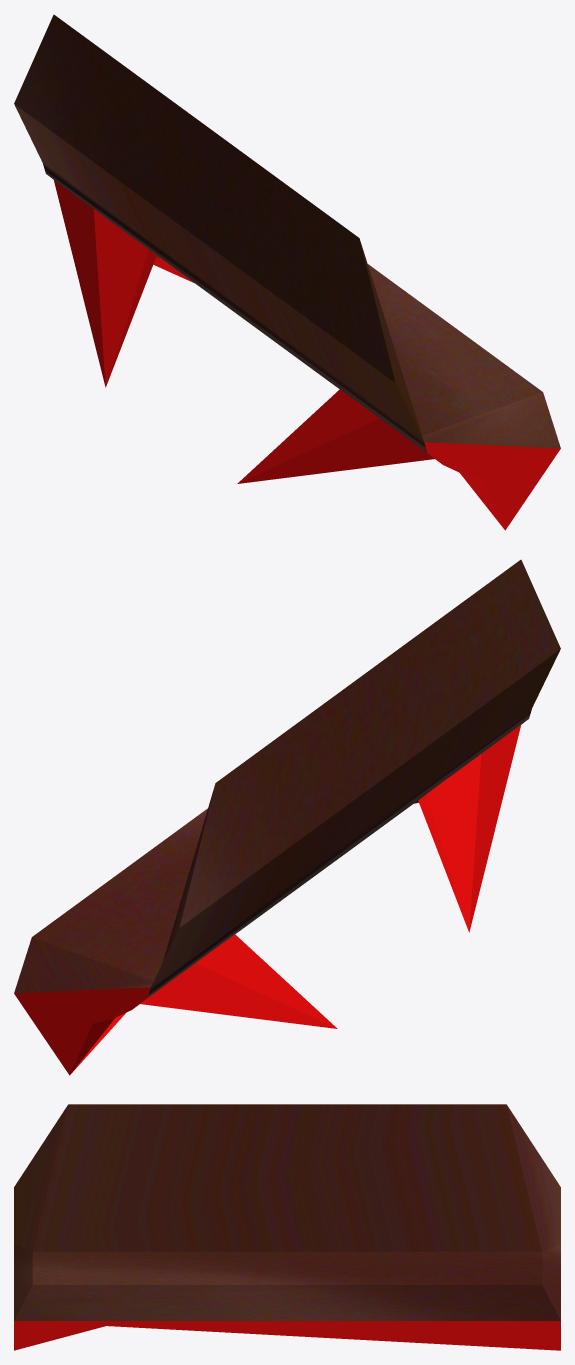
The model's file is BenchSofa.fbx.
3 renders of one model, top to bottom at view 1: azimuth 30°, elevation 25°; view 2: azimuth 150°, elevation 25°; view 3: azimuth 270°, elevation 25°, orthographic. The views are drawn at different scales.
Parts seen in each view (by area): view 1: pCube1; view 2: pCube1; view 3: pCube1.
Boxes of the visible parts, box(x1,y1,x2,y2) form: pCube1: box(14, 14, 560, 530); pCube1: box(14, 559, 560, 1075); pCube1: box(14, 1104, 560, 1350).
Bounding box in the file's own units: 2.2 × 3.18 × 7.3.
2 materials, 1 textured.
